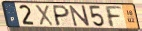2: (19, 4, 35, 26)
5: (88, 5, 106, 28)
F: (103, 5, 123, 28)
N: (68, 5, 92, 28)
P: (53, 4, 71, 27)
X: (34, 4, 55, 27)
